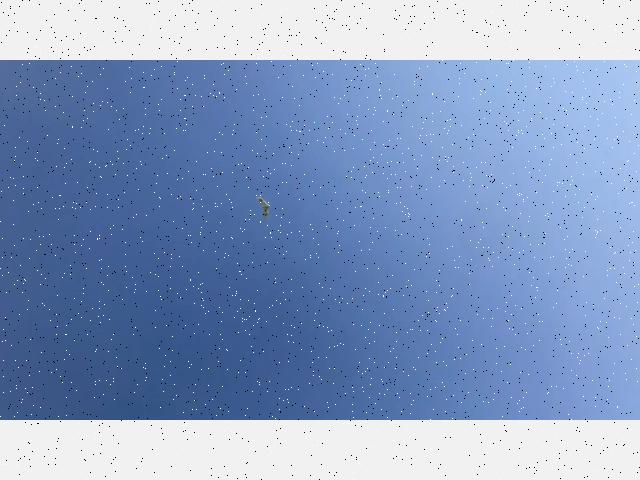Anti-Drone: (248, 194, 280, 220)
